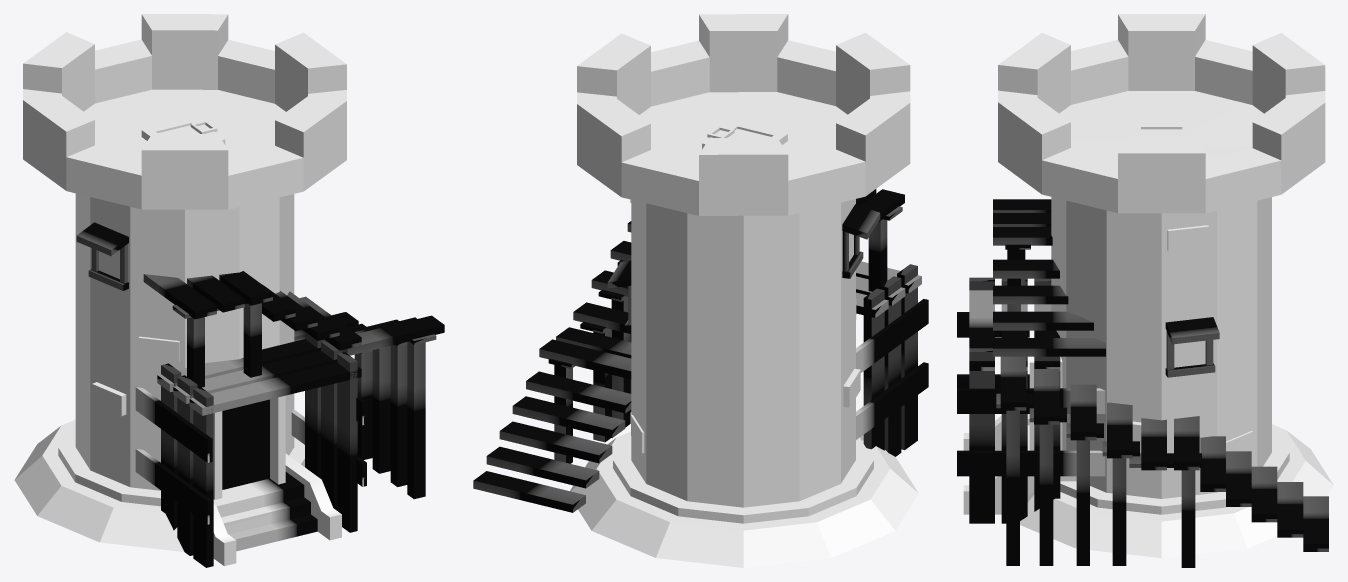
File: TowerPhase02.fbx
The picture shows the model from 3 angles, left to right: view 1: azimuth 30°, elevation 25°; view 2: azimuth 150°, elevation 25°; view 3: azimuth 270°, elevation 25°; orthographic projection. The views are drawn at different scales.
Visible parts, largest first — view 1: pCube730; view 2: pCube730; view 3: pCube730.
Boxes of the visible parts, x1,y1,x2,y2 form: pCube730: [14, 14, 444, 567]; pCube730: [473, 14, 928, 567]; pCube730: [957, 14, 1333, 567].
Bounding box in the file's own units: 2.82 × 3.28 × 2.78.
